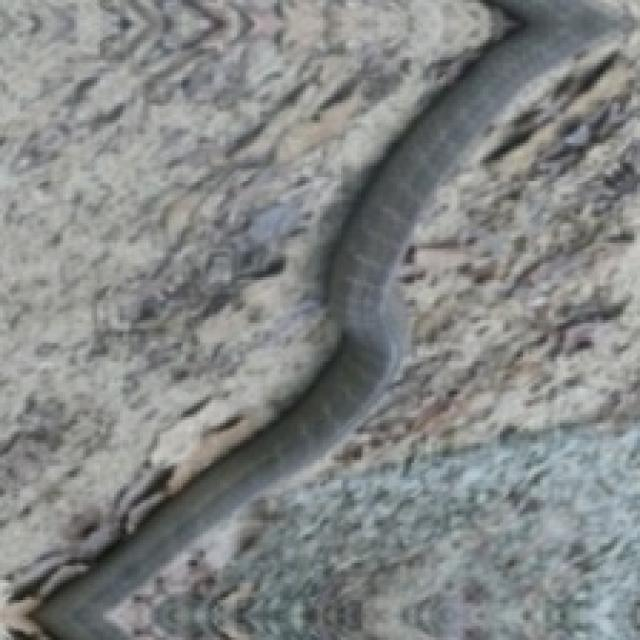king cobra: (0, 0, 506, 637), (334, 40, 637, 469), (249, 523, 589, 634)
